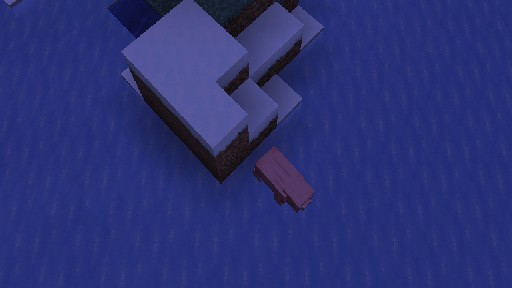pig: (252, 144, 315, 212)
